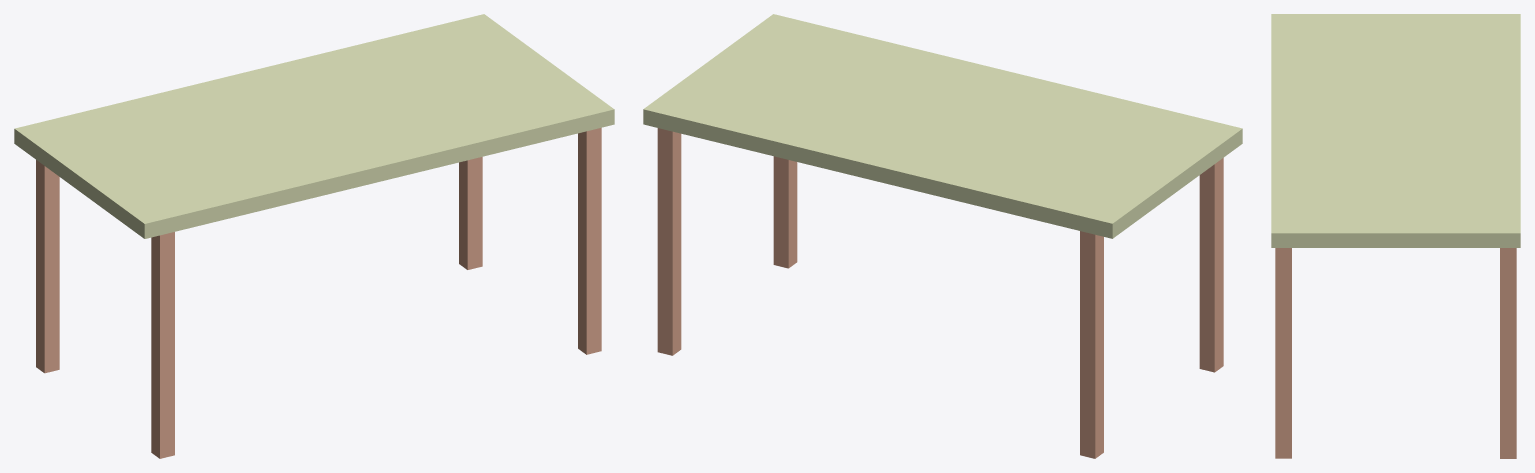
The model's file is table.fbx.
3 views of the same model, side by side, from view 1: azimuth 30°, elevation 25°; view 2: azimuth 150°, elevation 25°; view 3: azimuth 270°, elevation 25° (orthographic). The views are drawn at different scales.
Visible parts, largest first — view 1: Cube, Cube.004, Cube.001, Cube.002, Cube.003; view 2: Cube, Cube.003, Cube.002, Cube.001, Cube.004; view 3: Cube, Cube.003, Cube.004.
Part boxes in pixels (left/top/right/bottom): Cube: left=14, top=14, right=614, bottom=238; Cube.004: left=578, top=127, right=601, bottom=354; Cube.001: left=151, top=232, right=174, bottom=458; Cube.002: left=36, top=160, right=59, bottom=373; Cube.003: left=459, top=157, right=482, bottom=269; Cube: left=643, top=14, right=1242, bottom=238; Cube.003: left=657, top=128, right=681, bottom=355; Cube.002: left=1080, top=231, right=1103, bottom=458; Cube.001: left=1199, top=158, right=1223, bottom=372; Cube.004: left=773, top=156, right=797, bottom=268; Cube: left=1271, top=14, right=1520, bottom=247; Cube.003: left=1500, top=248, right=1516, bottom=458; Cube.004: left=1275, top=248, right=1291, bottom=458.
Bounding box in the file's own units: 428 × 211 × 206.
